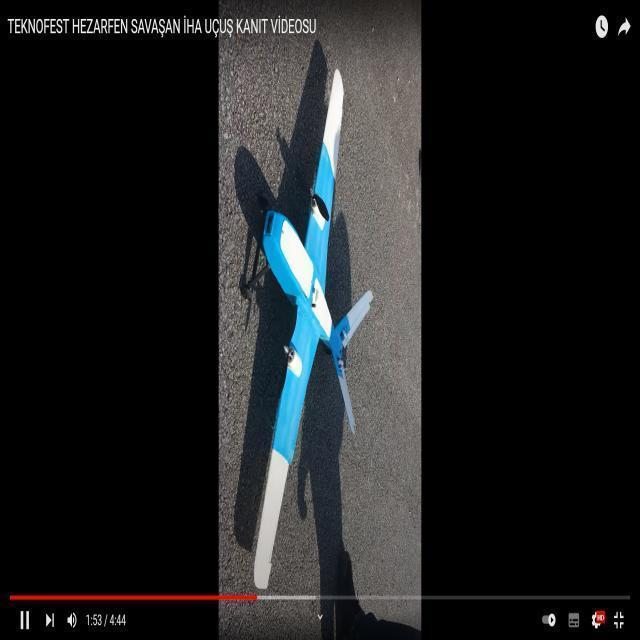iha: (240, 47, 372, 546)
